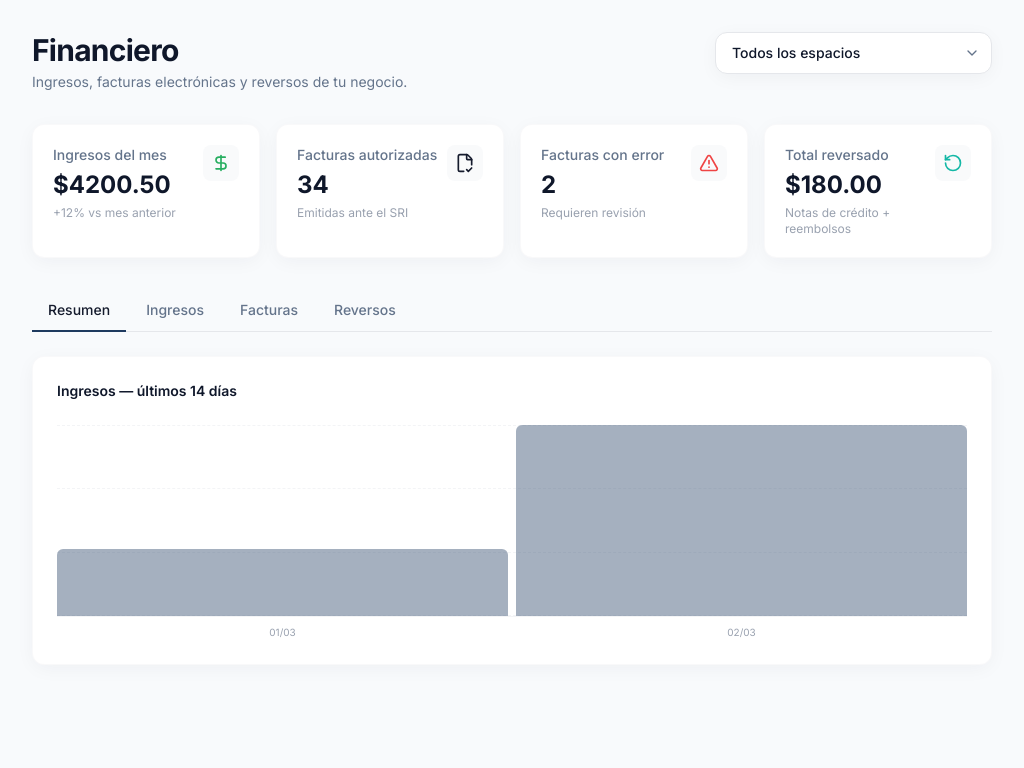
it: FinancieroModule › navega a la pestaña Ingresos
The width and height of the screenshot is (1024, 768).
Step 1. Click the button "Ingresos" → (175, 311), box x1=130 y1=290 x2=220 y2=332
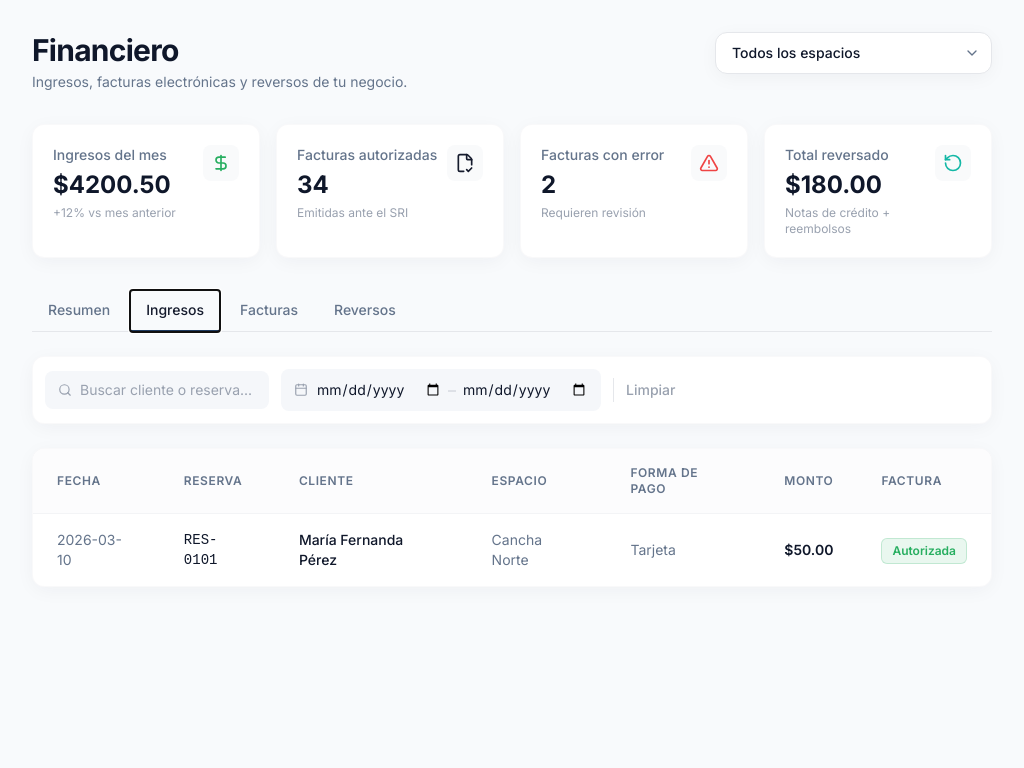
Expected: the text "RES-0101" is shown, x1=160 y1=514 x2=275 y2=586
